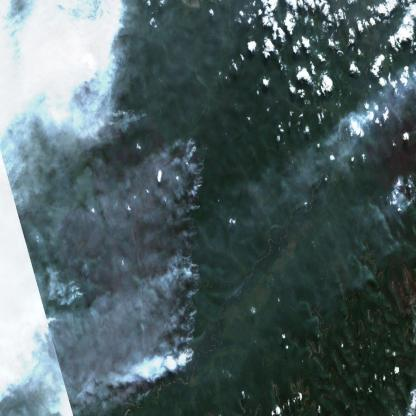fire: (176, 134, 207, 249), (178, 254, 204, 370), (119, 104, 153, 132), (67, 272, 89, 301)
